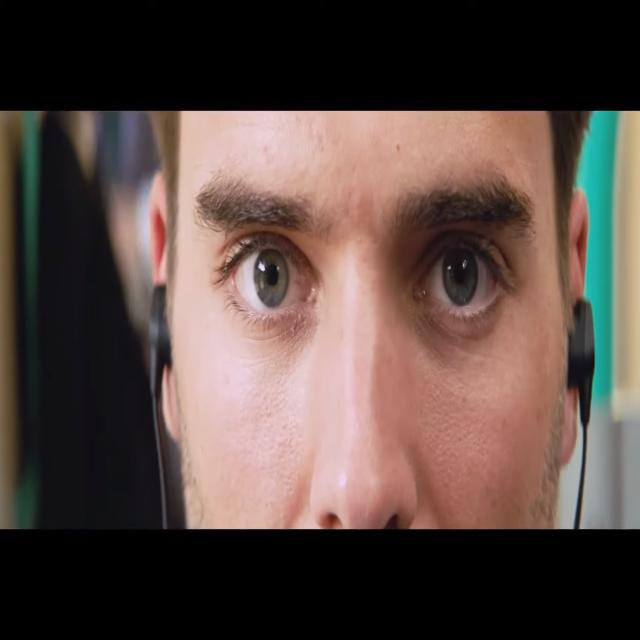Neckband: (148, 283, 596, 529)
